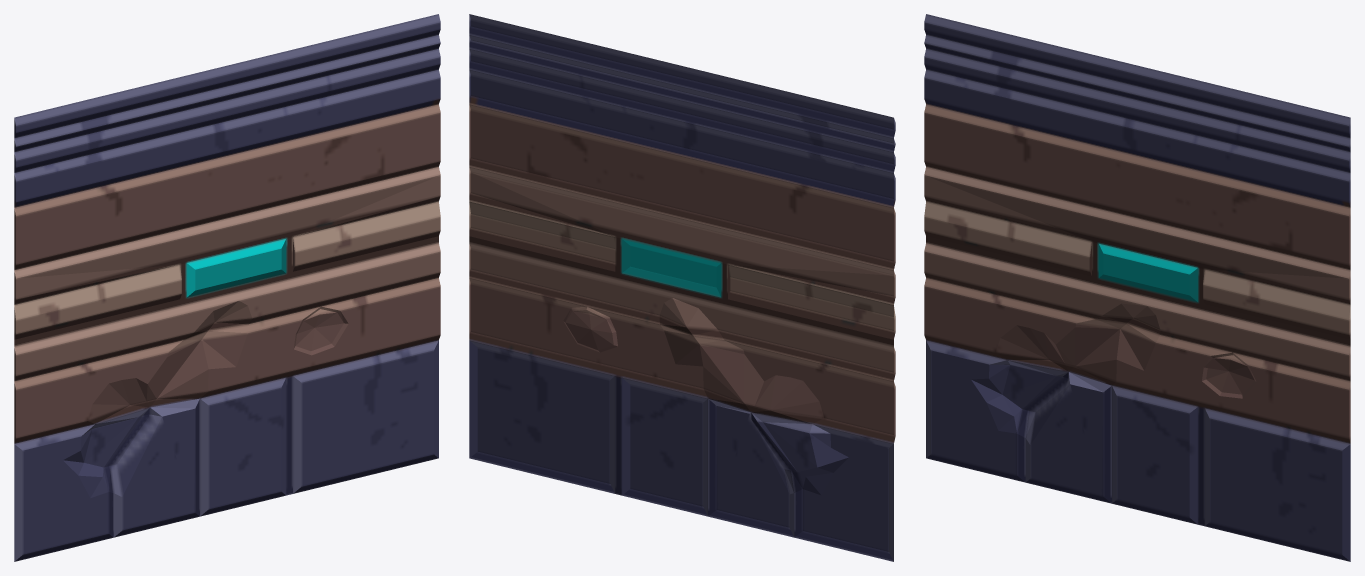
Rendered from sci3_1d.fbx.
3 views of the same model, side by side, from view 1: azimuth 30°, elevation 25°; view 2: azimuth 150°, elevation 25°; view 3: azimuth 330°, elevation 25° (orthographic).
Visible parts, largest first — view 1: sci3_1_mesh; view 2: sci3_1_mesh; view 3: sci3_1_mesh.
Part boxes in pixels (x1=…): sci3_1_mesh: x1=14, y1=14, x2=440, y2=561; sci3_1_mesh: x1=469, y1=14, x2=895, y2=561; sci3_1_mesh: x1=924, y1=14, x2=1350, y2=561.
Size of the model in its own units: 256 by 256 by 6.19.
